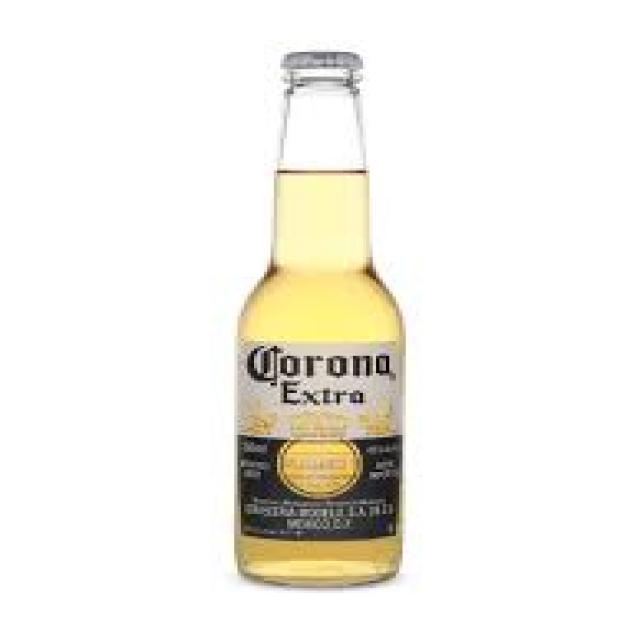glass: (228, 67, 403, 588)
metal: (277, 50, 360, 70)
